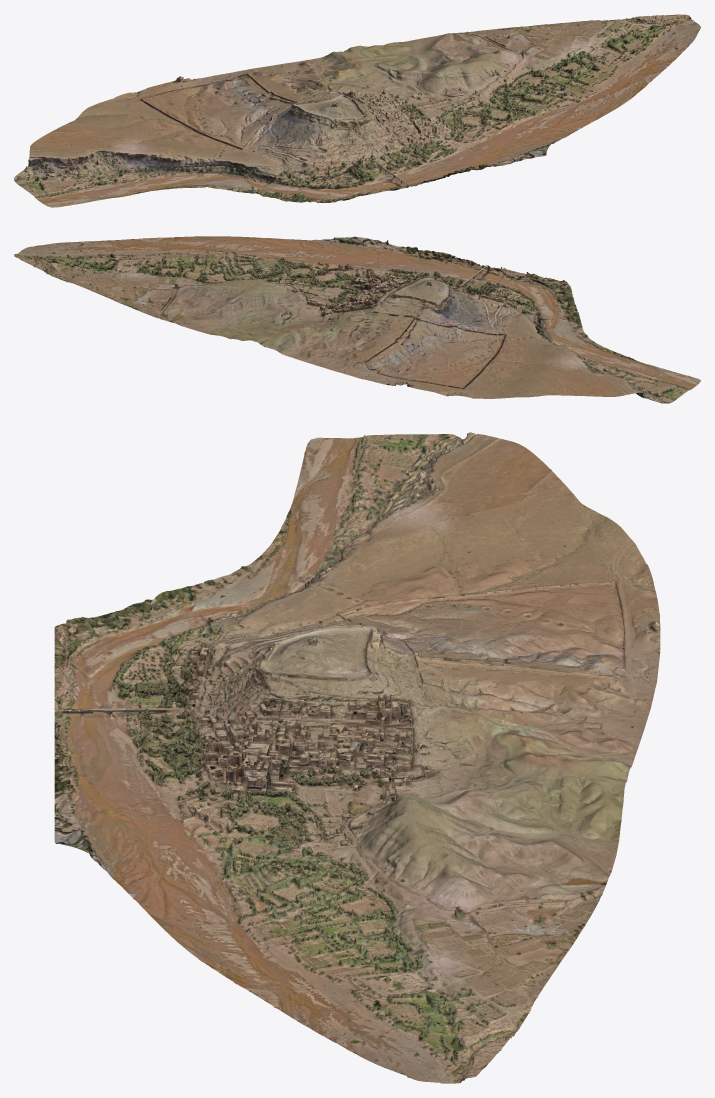
3 views of the same model, one above another, from view 1: azimuth 30°, elevation 25°; view 2: azimuth 150°, elevation 25°; view 3: azimuth 270°, elevation 25° (orthographic). The views are drawn at different scales.
Visible parts, largest first — view 1: MAR_001_M1_KsarGeneral; view 2: MAR_001_M1_KsarGeneral; view 3: MAR_001_M1_KsarGeneral.
Boxes of the visible parts, box(x1,y1,x2,y2) form: MAR_001_M1_KsarGeneral: box(14, 14, 700, 207); MAR_001_M1_KsarGeneral: box(14, 236, 700, 403); MAR_001_M1_KsarGeneral: box(54, 432, 660, 1083).
Size of the model in its own units: 1361 by 77.61 by 549.
Materials: 1 (1 with a texture image).
